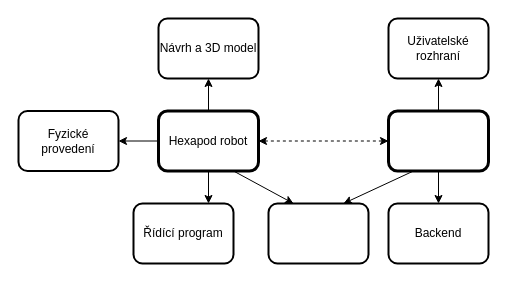
This 507x281 diagram has some shape labels left out. Here are the shapes that lost their labels. From the top down, the box of each, then its label:
(386, 109, 490, 172): Mobilní aplikace
(267, 202, 369, 264): Testování
